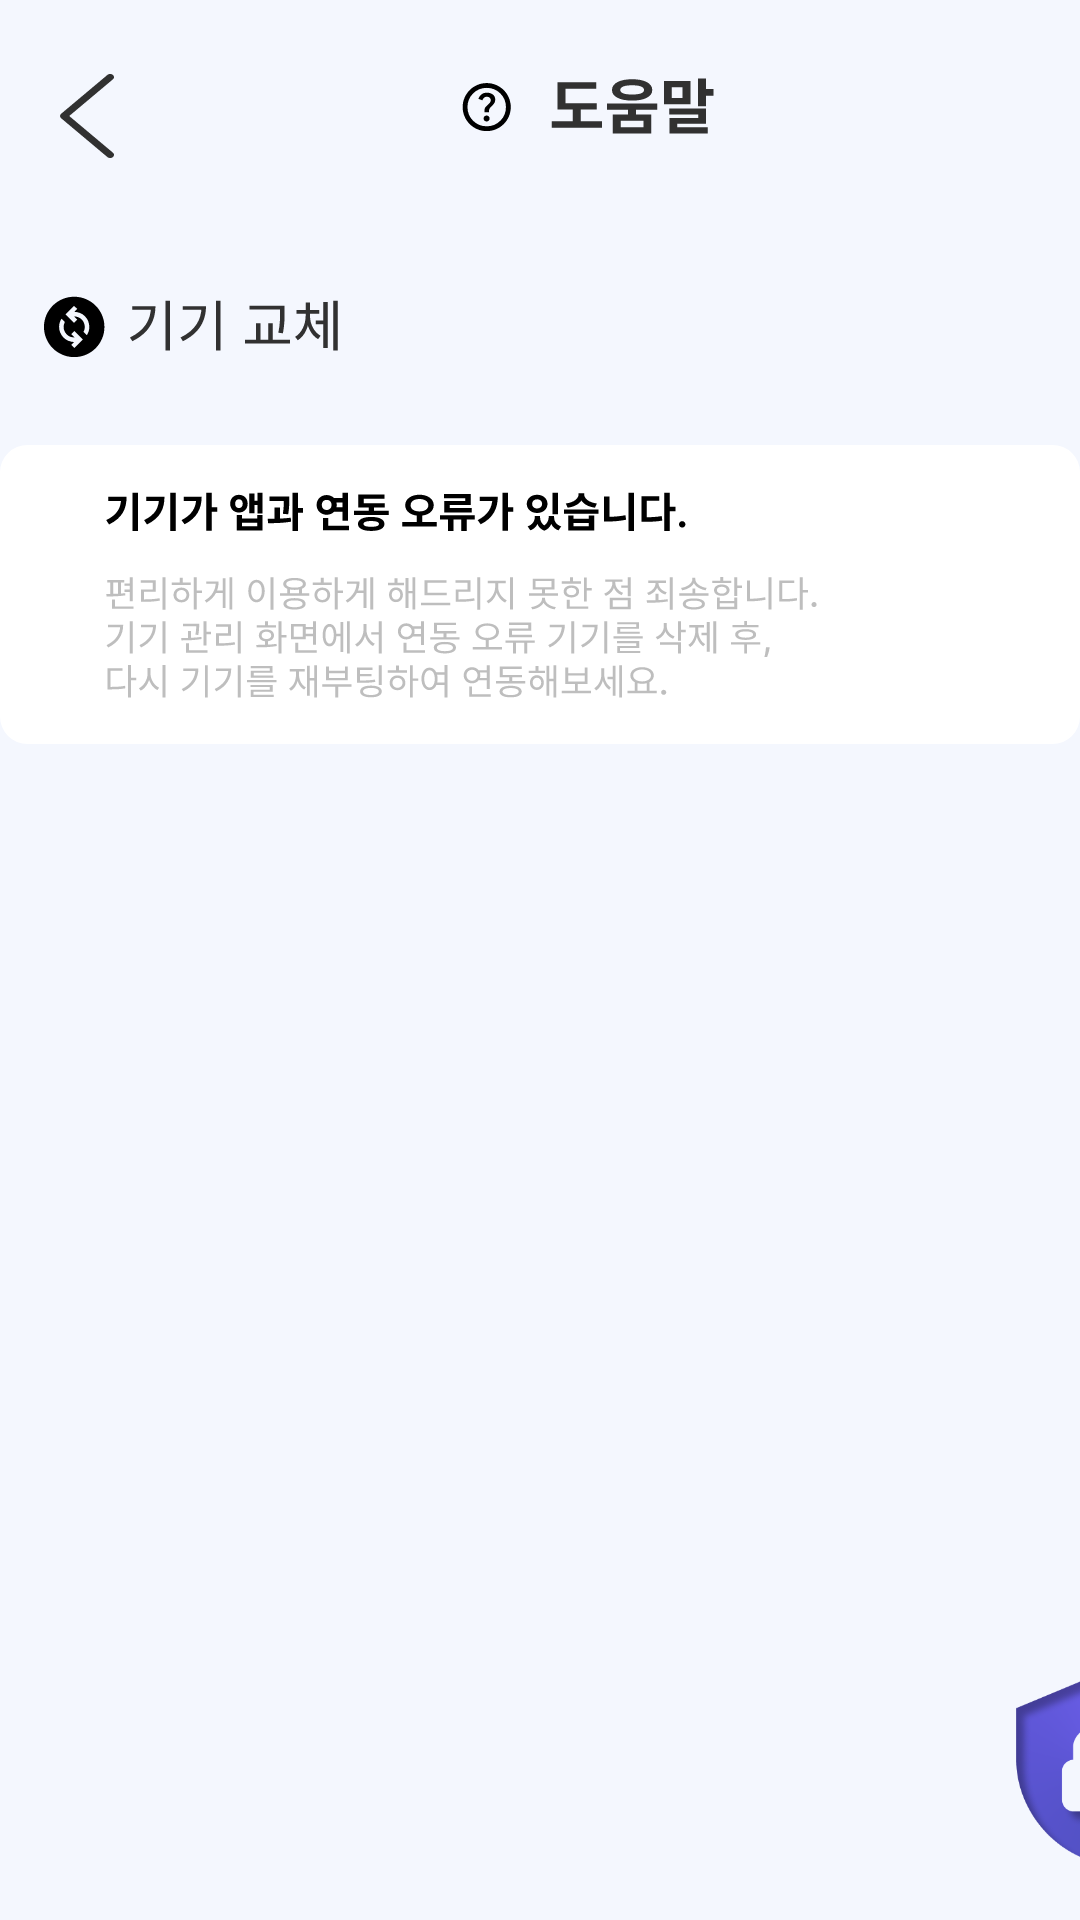

Where icons sit on this 1080px×1920px app screen, as BBox(x1, y1, x2, y2):
back: BBox(60, 74, 114, 158)
